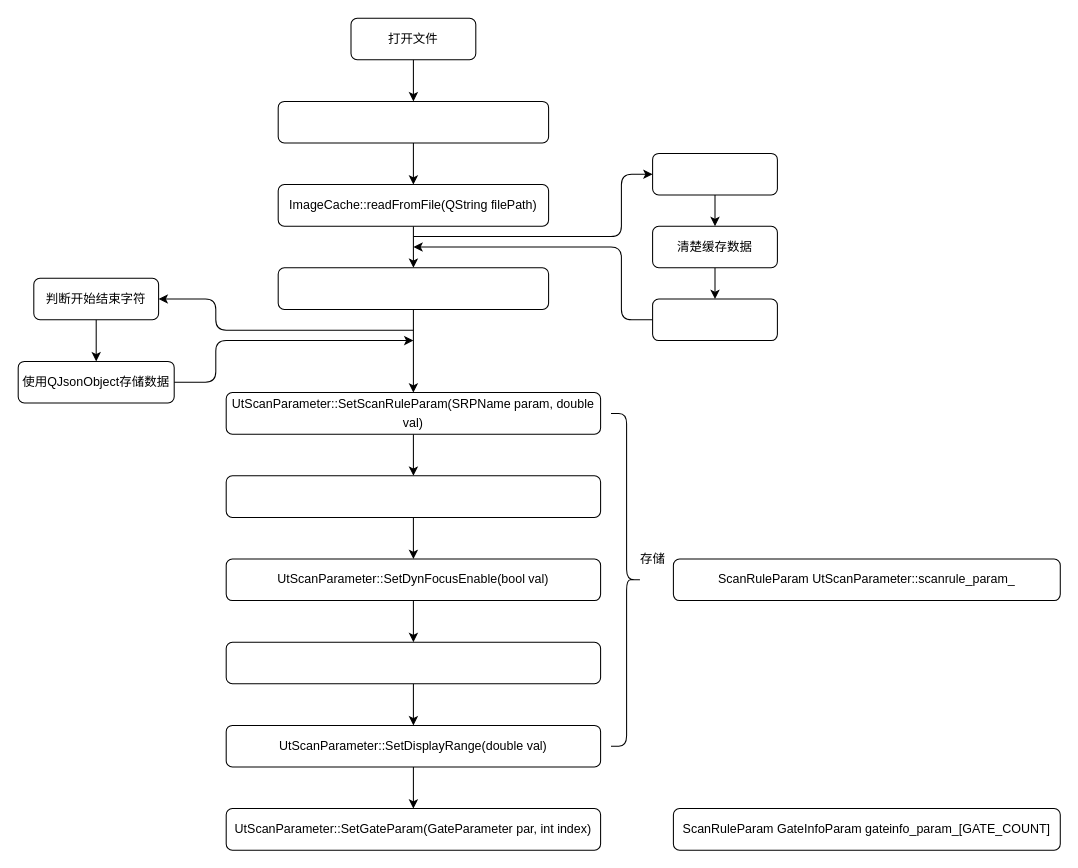
Image size: 1078x868. Some labels were removed from this diagram. Here are the shapes that lost their labels. From the top down, the centre of each, then its label:
the point at 413,121: ImageModel::reviewUSData(QString path)
the point at 714,173: 判断文件格式编号
the point at 413,288: USDevHandle::readPara(QIODevice *io)
the point at 714,319: 读取超声参数配置
the point at 413,496: UtScanParameter::SetScanDoubleMode(bool val)
the point at 413,662: UtScanParameter::SetWedgeUsed(bool val)
